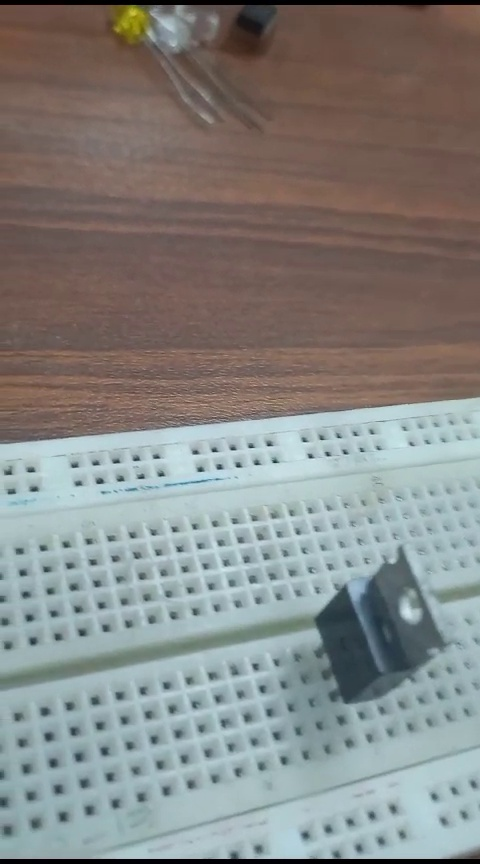voltage regulator: (305, 552, 457, 712)
